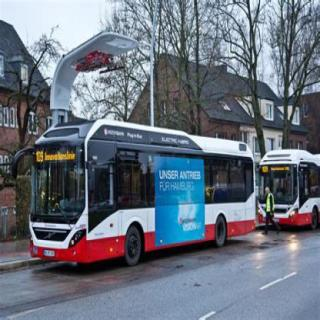Normal_vehicle: (11, 120, 258, 283), (257, 138, 319, 243)
